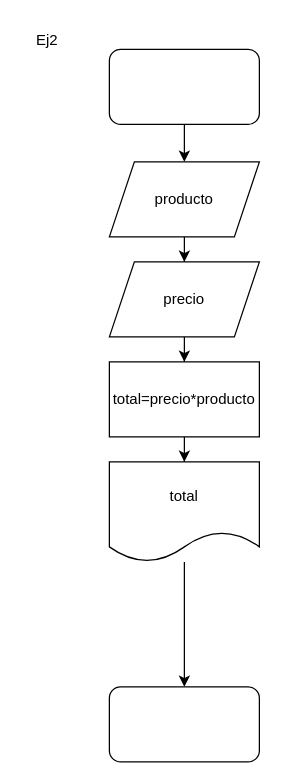
The diagram is 281 pixels wide and 784 high, and some of its shapes have lost their labels. Each missing label, with the centre of its shape:
Fin: pixel 183 724
Inicio: pixel 183 86
